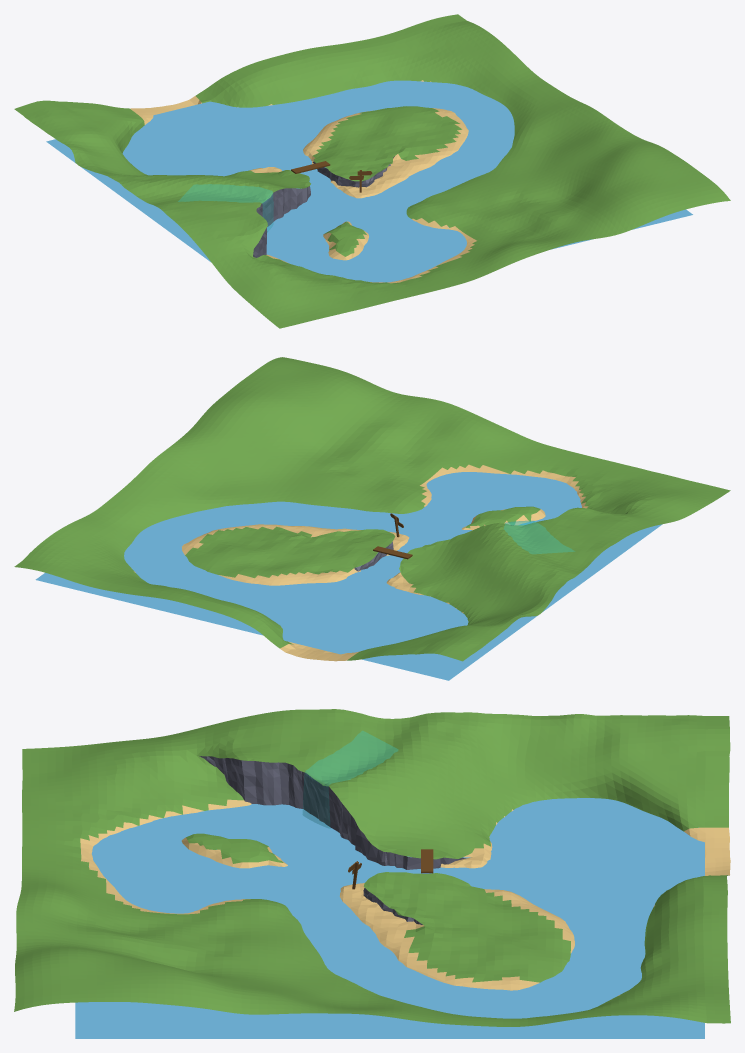
The model's file is river_environment.glb.
3 views of the same model, one above another, from view 1: azimuth 30°, elevation 25°; view 2: azimuth 150°, elevation 25°; view 3: azimuth 270°, elevation 25° (orthographic). The views are drawn at different scales.
Parts seen in each view (by area): view 1: floor, lake, waterfall, cliff_1, cliff_2; view 2: floor, lake, waterfall; view 3: floor, lake, cliff_1, waterfall.
Boxes of the visible parts, <box> form: floor: <box>14,14,730,328</box>; lake: <box>46,80,692,282</box>; waterfall: <box>178,184,273,232</box>; cliff_1: <box>253,186,310,257</box>; cliff_2: <box>312,156,394,187</box>; floor: <box>14,357,730,661</box>; lake: <box>35,472,662,680</box>; waterfall: <box>504,520,574,553</box>; floor: <box>14,709,730,1026</box>; lake: <box>75,798,704,1038</box>; cliff_1: <box>199,756,466,869</box>; waterfall: <box>302,731,397,828</box>.
Size of the model in its own units: 256 by 29.32 by 263.
